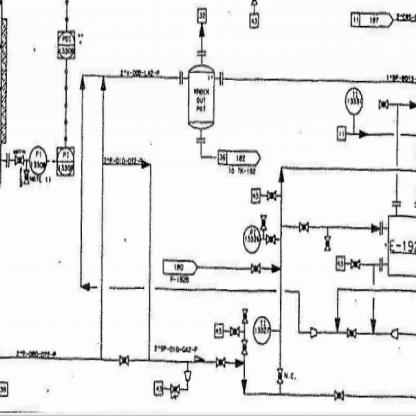LMI: (342, 85, 372, 116), (250, 312, 272, 348), (242, 223, 261, 256), (29, 143, 47, 175)
TAG: (56, 145, 76, 179), (56, 29, 77, 61)
